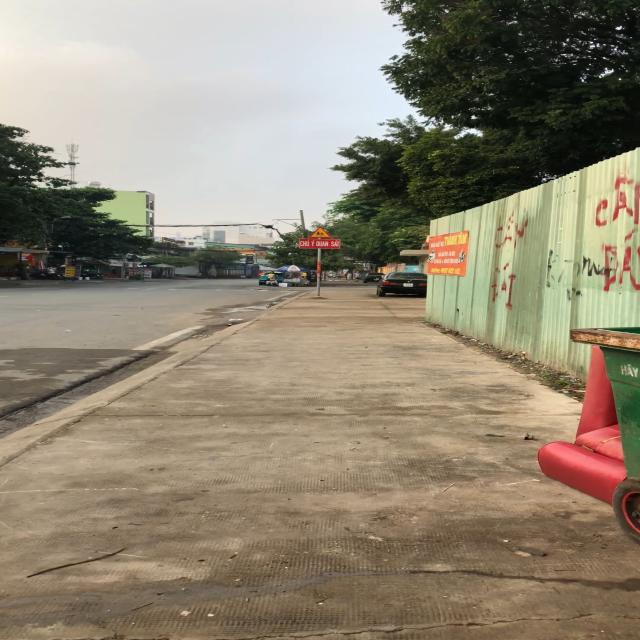Bien bao tre em: (307, 225, 333, 238)
